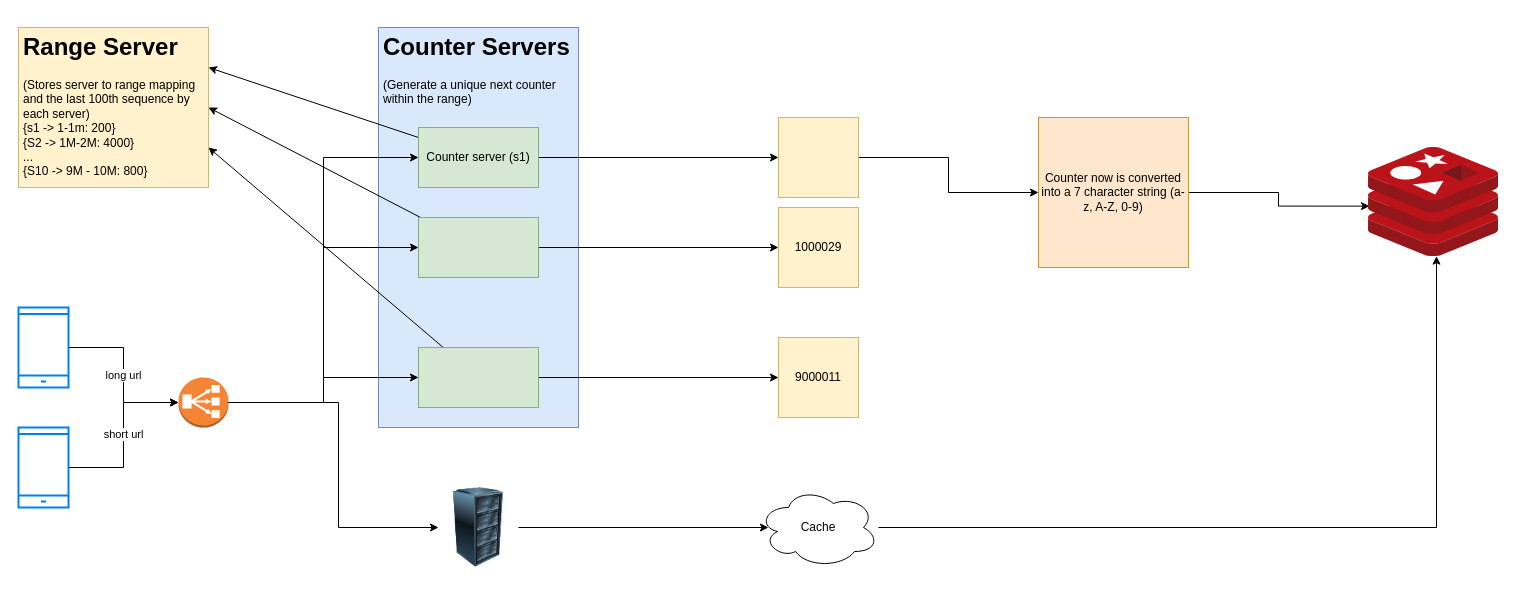
This 1515x605 diagram has some shape labels left out. The box of each missing label's shape, as (x1, y1, x2, y2) in pixels:
Counter server (s10): (418, 346, 538, 408)
Counter server (s2): (418, 216, 538, 278)
Counter++ 21: (778, 116, 858, 198)
Read Servers: (438, 487, 518, 567)
